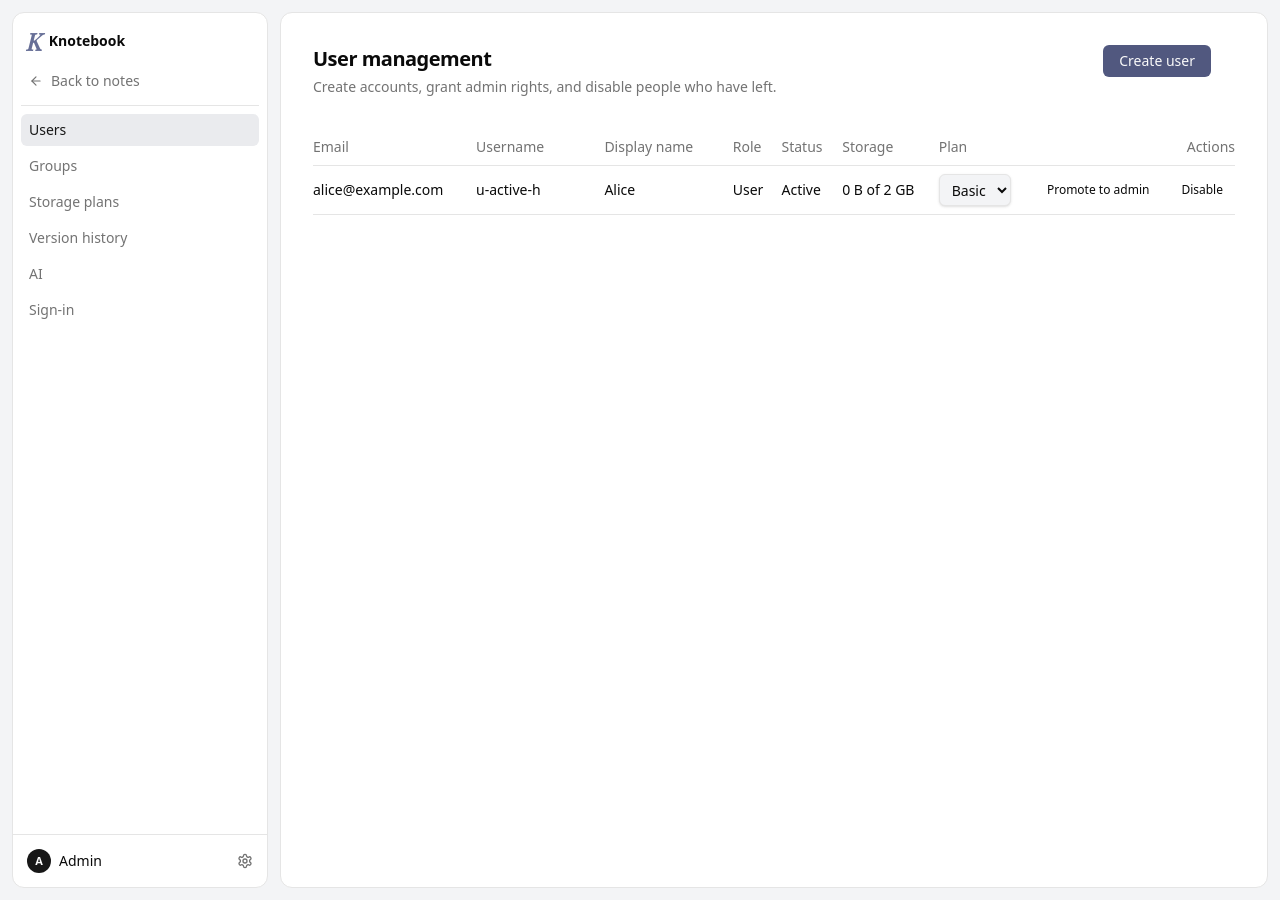
it: W5 使用者表的儲存空間與方案（spec §9.3） › 改方案失敗（404 storage_plan_not_found）：toast，下拉留在原方案
The width and height of the screenshot is (1280, 900).
Select "Big" in the dropdown named "Storage plan for alice@example.com" at (975, 190), box [939,174,1011,206]
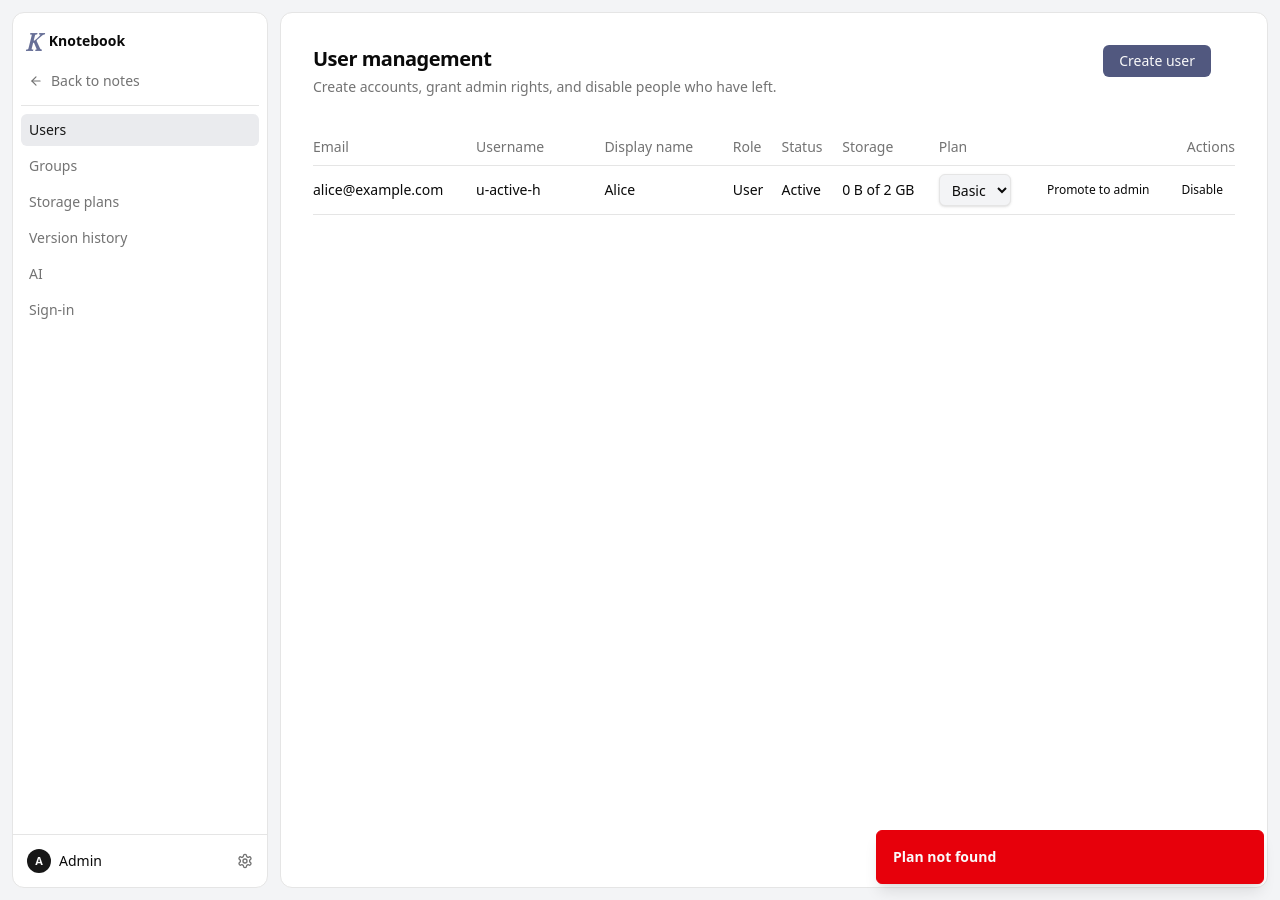
Result: the text "Plan not found" is shown at [893,847,996,867]
